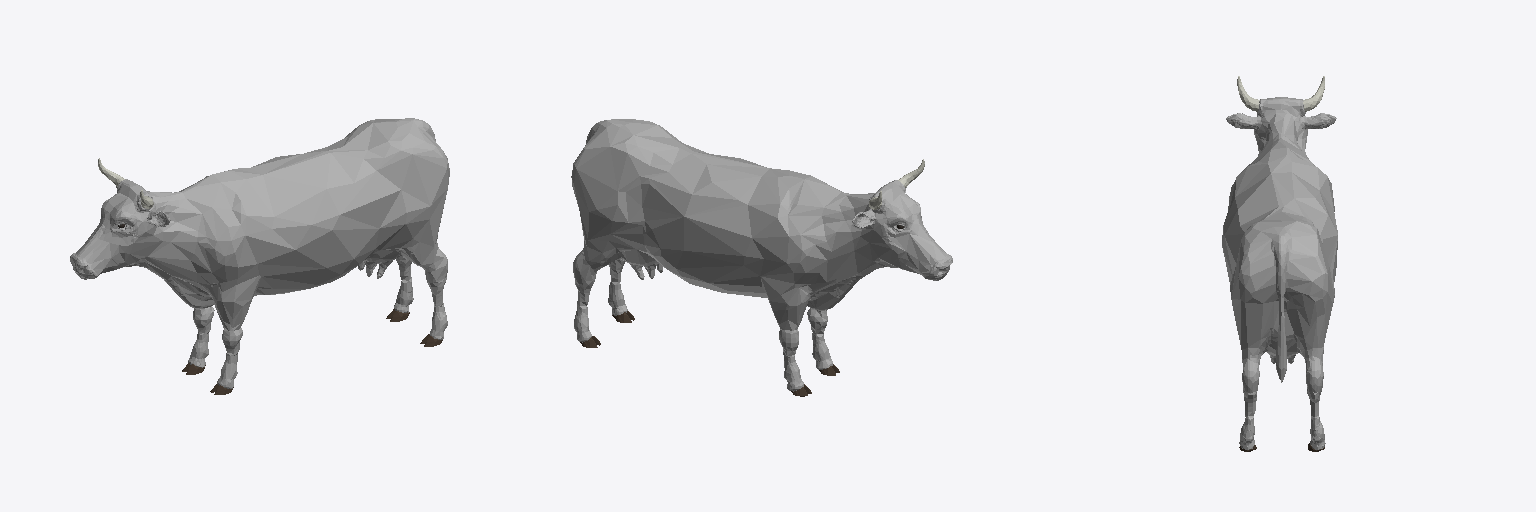
File: cow0.obj
3 renders of one model, left to right at view 1: azimuth 30°, elevation 25°; view 2: azimuth 150°, elevation 25°; view 3: azimuth 270°, elevation 25°, orthographic.
Parts seen in each view (by area): view 1: cow__1; view 2: cow__1; view 3: cow__1.
Part boxes in pixels (bbox=[...]): cow__1: bbox=[70, 118, 449, 394]; cow__1: bbox=[571, 119, 952, 396]; cow__1: bbox=[1222, 76, 1337, 451].
Size of the model in its own units: 1220 by 731 by 338.